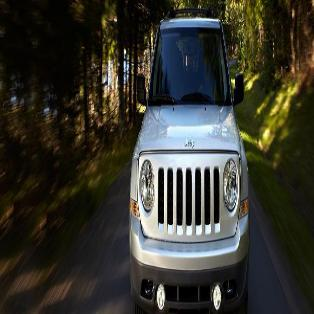Auto: (130, 20, 252, 313)
